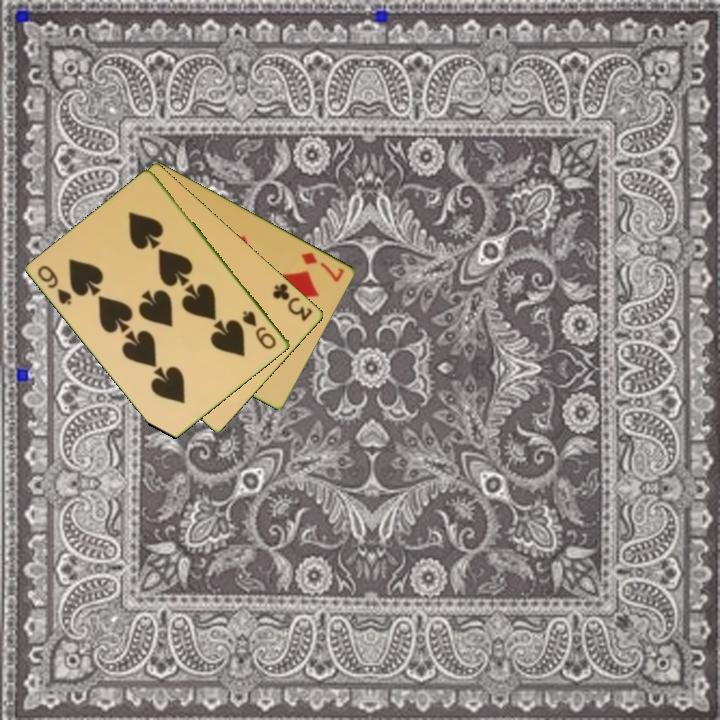3c: (269, 280, 316, 324)
7d: (298, 248, 347, 285)
9s: (239, 307, 280, 353), (34, 262, 75, 308)
